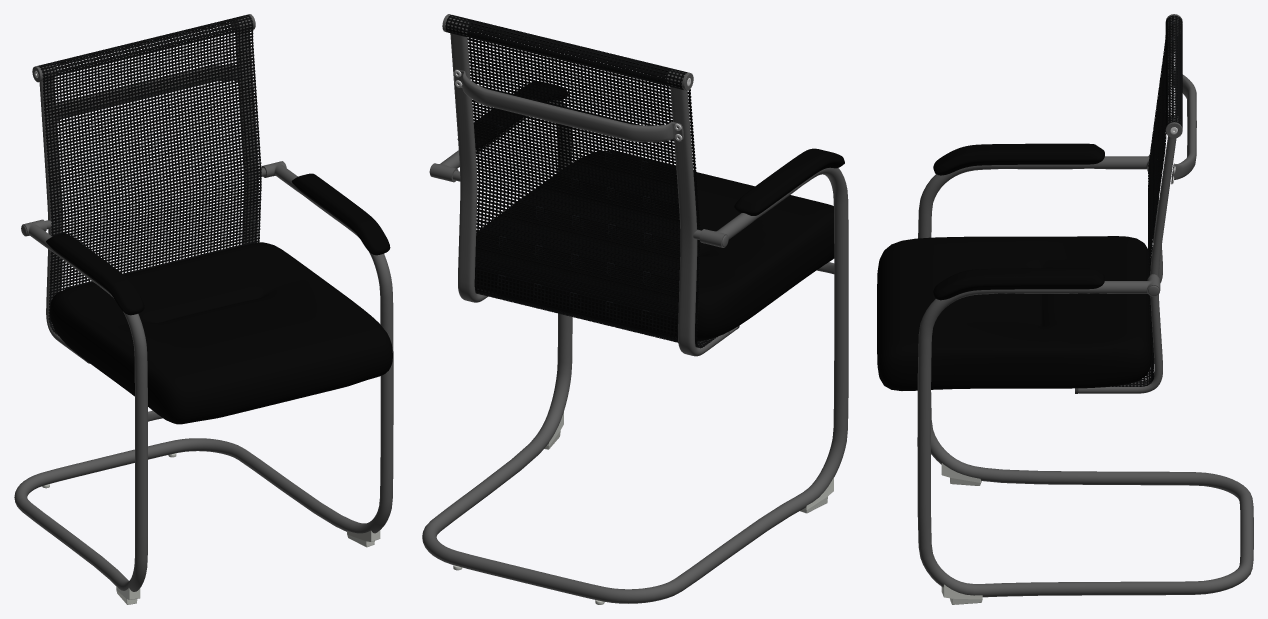
File: marina3.glb
3 views of the same model, side by side, from view 1: azimuth 30°, elevation 25°; view 2: azimuth 150°, elevation 25°; view 3: azimuth 270°, elevation 25° (orthographic). The views are drawn at different scales.
Visible parts, largest first — view 1: Lehne, Sitzpolster, Gestell, Arnlehne, Lehne_Stange.003, Lehne_Querstrebe, Fuss_vorn; view 2: Lehne, Sitzpolster, Gestell, Lehne_Stange.003, Lehne_Querstrebe, Arnlehne; view 3: Sitzpolster, Gestell, Arnlehne, Lehne, Lehne_Stange.003, Lehne_Querstrebe, Fuss_vorn.
Boxes of the visible parts, bbox=[...] form: Lehne: bbox=[37, 14, 261, 335]; Sitzpolster: bbox=[50, 242, 392, 424]; Gestell: bbox=[14, 161, 393, 591]; Arnlehne: bbox=[46, 173, 390, 315]; Lehne_Stange.003: bbox=[39, 30, 258, 361]; Lehne_Querstrebe: bbox=[56, 65, 237, 121]; Fuss_vorn: bbox=[116, 530, 380, 604]; Lehne: bbox=[445, 15, 717, 348]; Sitzpolster: bbox=[474, 151, 834, 340]; Gestell: bbox=[422, 100, 848, 603]; Lehne_Stange.003: bbox=[450, 33, 737, 356]; Lehne_Querstrebe: bbox=[453, 69, 683, 142]; Arnlehne: bbox=[457, 81, 844, 215]; Sitzpolster: bbox=[877, 236, 1151, 390]; Gestell: bbox=[917, 155, 1253, 597]; Arnlehne: bbox=[933, 143, 1104, 300]; Lehne: bbox=[1109, 15, 1182, 386]; Lehne_Stange.003: bbox=[1078, 35, 1176, 393]; Lehne_Querstrebe: bbox=[1171, 67, 1196, 184]; Fuss_vorn: bbox=[941, 463, 982, 604].
Size of the model in its own units: 0.5705 by 0.9225 by 0.6647.
Materials: 10 (1 with a texture image).
